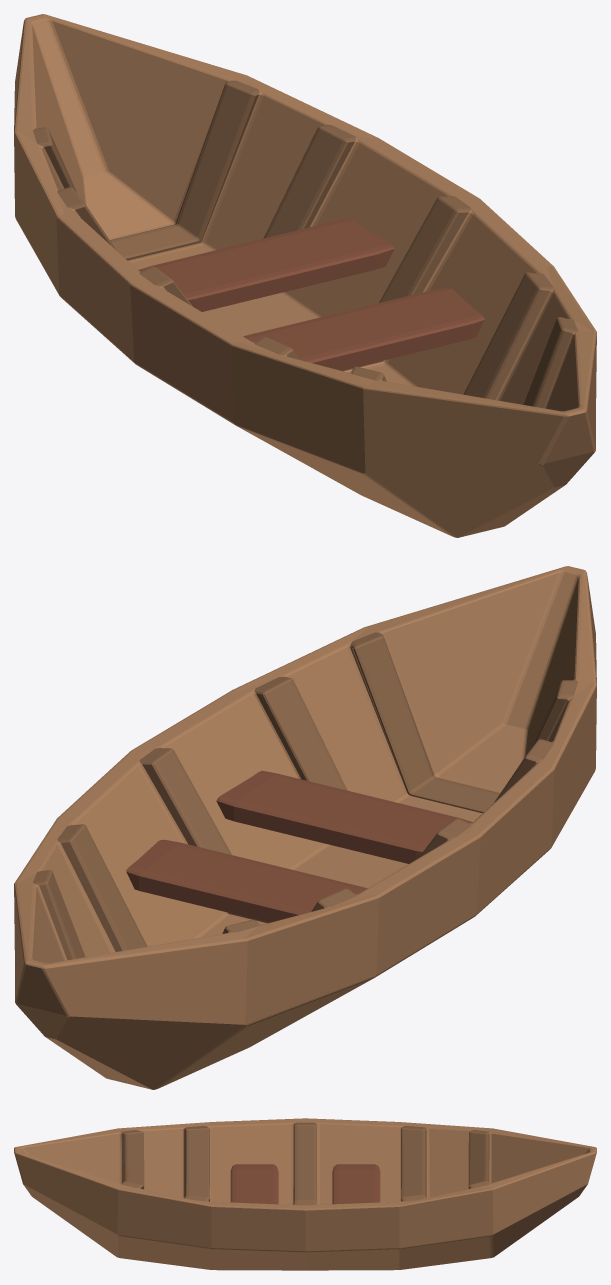
The model's file is port-ship2.fbx.
3 views of the same model, one above another, from view 1: azimuth 30°, elevation 25°; view 2: azimuth 150°, elevation 25°; view 3: azimuth 270°, elevation 25° (orthographic). The views are drawn at different scales.
Parts seen in each view (by area): view 1: Cube.255; view 2: Cube.255; view 3: Cube.255.
Part boxes in pixels (x1,y1,x2,y2): Cube.255: (14, 14, 596, 537); Cube.255: (14, 566, 596, 1089); Cube.255: (14, 1118, 596, 1270).
Bounding box in the file's own units: 217 × 125 × 584.
